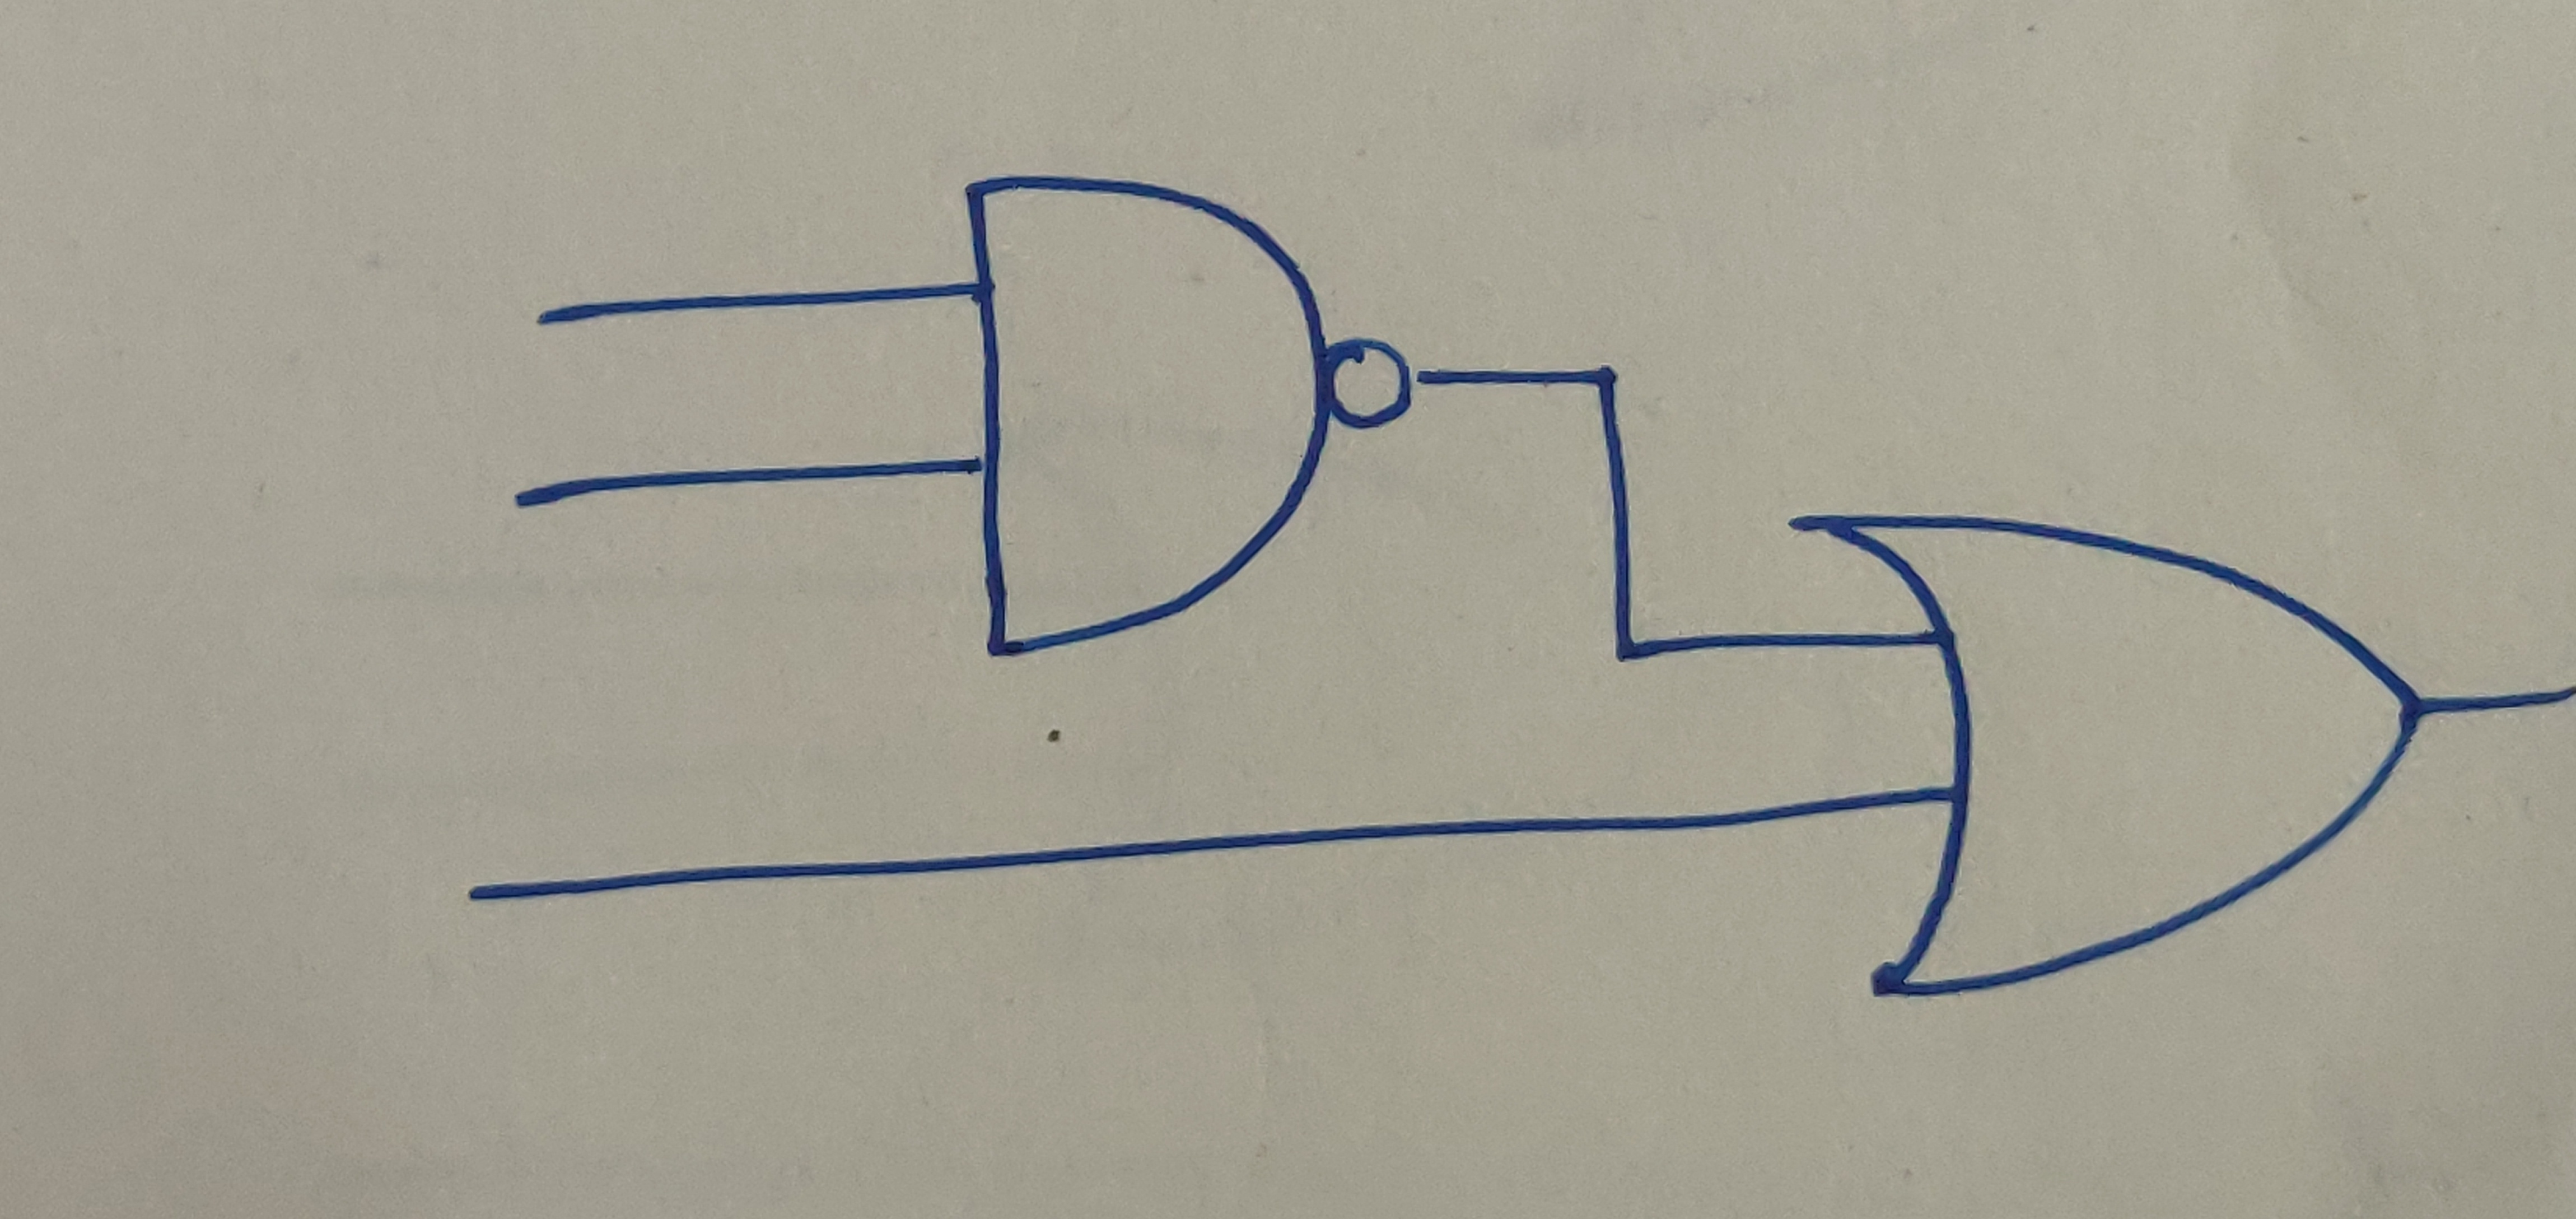and: (955, 171, 1327, 659)
not: (1331, 333, 1416, 435)
or: (1776, 504, 2425, 1005)
